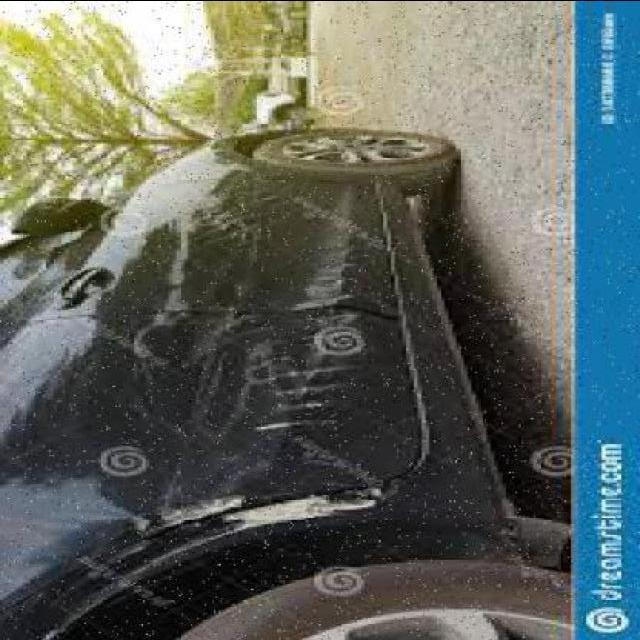doorouter-dent: (13, 296, 453, 509)
quaterpanel-dent: (0, 489, 503, 640)
